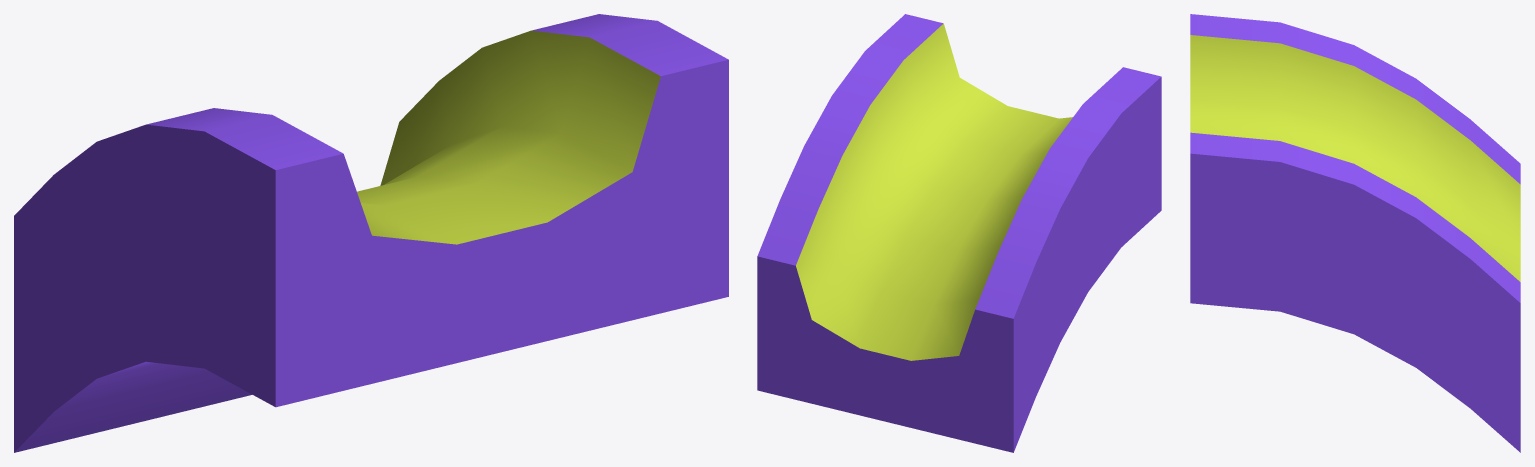
Rendered from rampEnd_C.fbx.
3 renders of one model, left to right at view 1: azimuth 30°, elevation 25°; view 2: azimuth 150°, elevation 25°; view 3: azimuth 270°, elevation 25°, orthographic. The views are drawn at different scales.
Parts seen in each view (by area): view 1: rampEnd_C; view 2: rampEnd_C; view 3: rampEnd_C.
Part boxes in pixels (box(x1,y1,x2,y2)): rampEnd_C: box(14, 14, 728, 452); rampEnd_C: box(757, 14, 1161, 452); rampEnd_C: box(1190, 14, 1520, 452).
Bounding box in the file's own units: 10 × 10 × 10.
